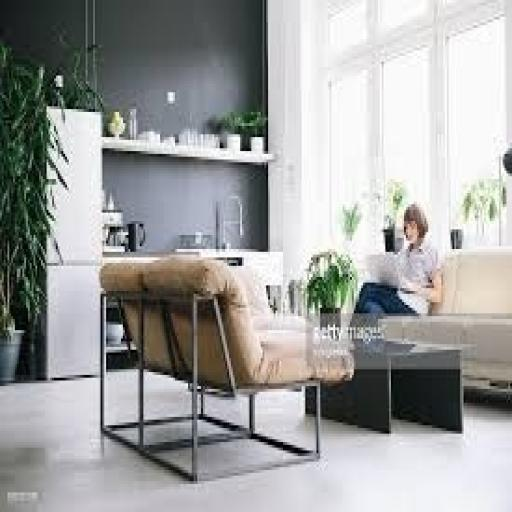sitting: (354, 199, 443, 316)
